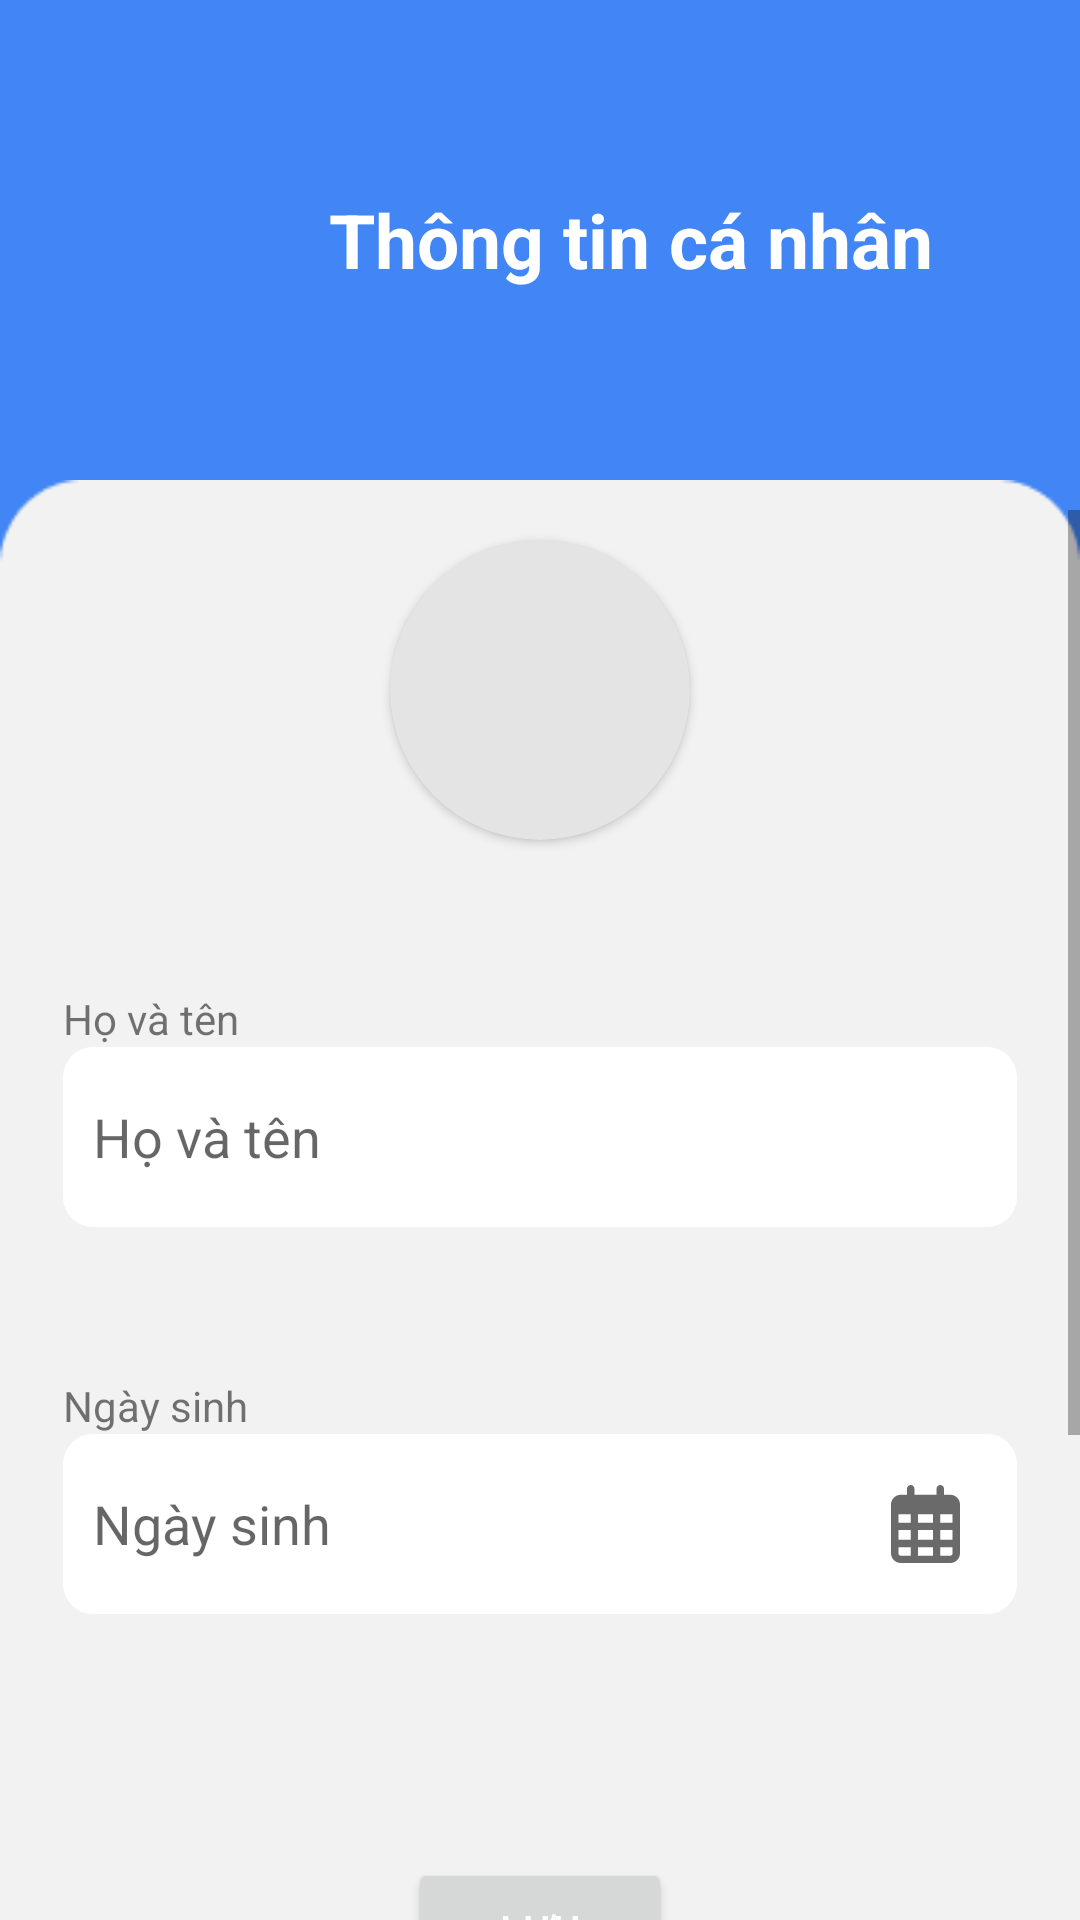

Locate icon controls on the screen. Image size 1080px x 1920px, boxes as [x1,y1,x2,y2].
calendar: [891,1485,960,1563]
